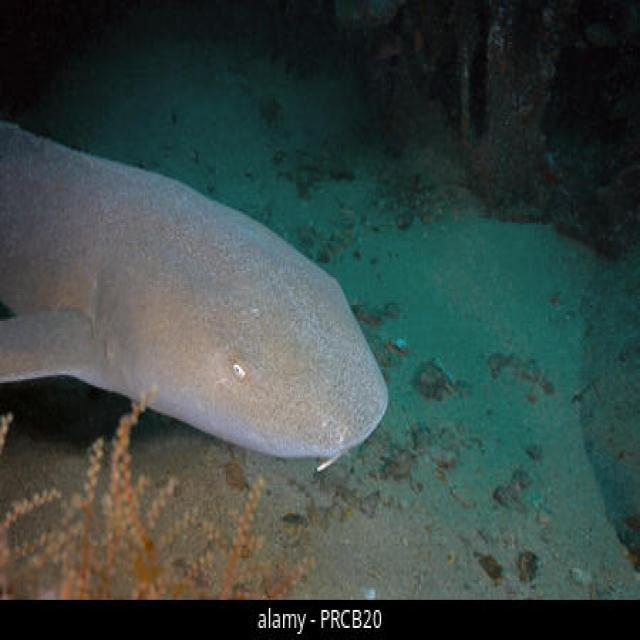Shark: (0, 94, 401, 486)
